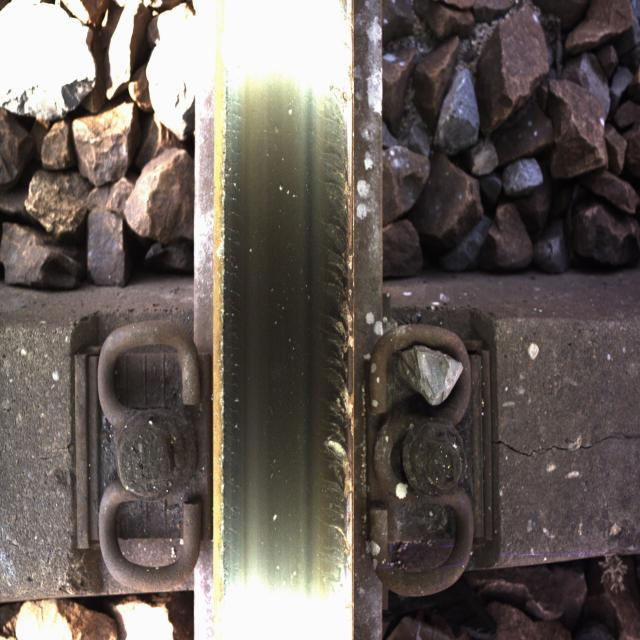crack: (308, 29, 360, 619)
